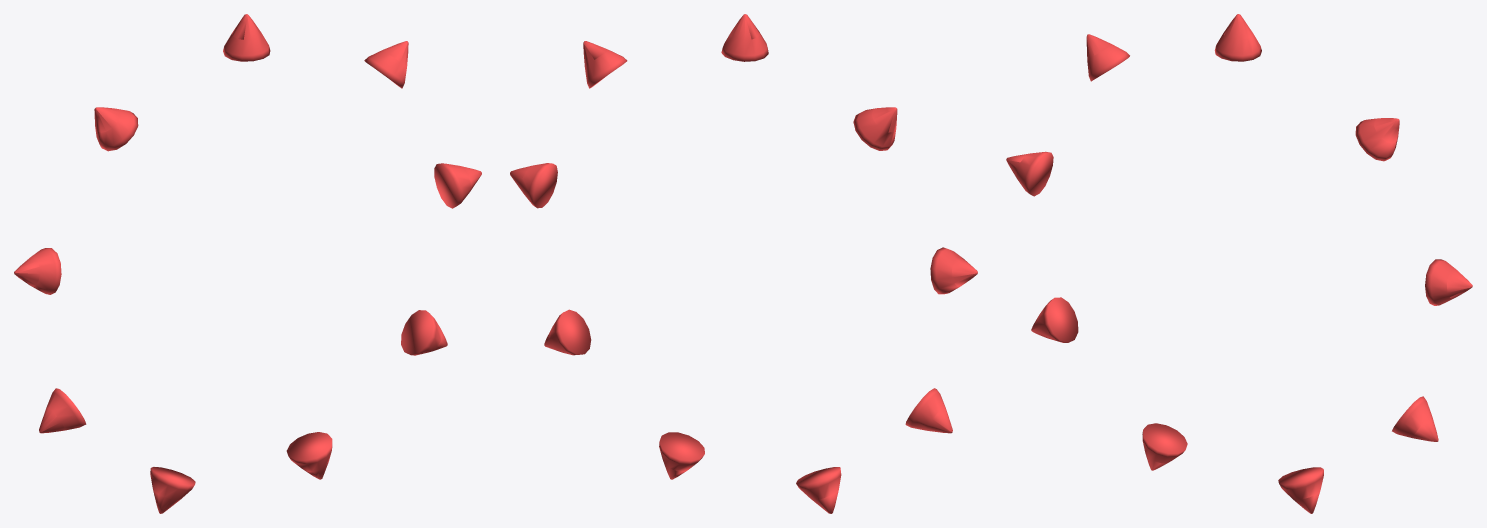
The model's file is gate-checkpoint.glb.
3 views of the same model, side by side, from view 1: azimuth 30°, elevation 25°; view 2: azimuth 150°, elevation 25°; view 3: azimuth 330°, elevation 25° (orthographic).
Parts seen in each view (by area): view 1: Cone; view 2: Cone; view 3: Cone.
Boxes of the visible parts, left/top/right/bottom form: Cone: left=14, top=14, right=481, bottom=513; Cone: left=510, top=14, right=977, bottom=513; Cone: left=1006, top=14, right=1472, bottom=513.
Bounding box in the file's own units: 3.66 × 3.62 × 0.3207.
1 material, 1 textured.
